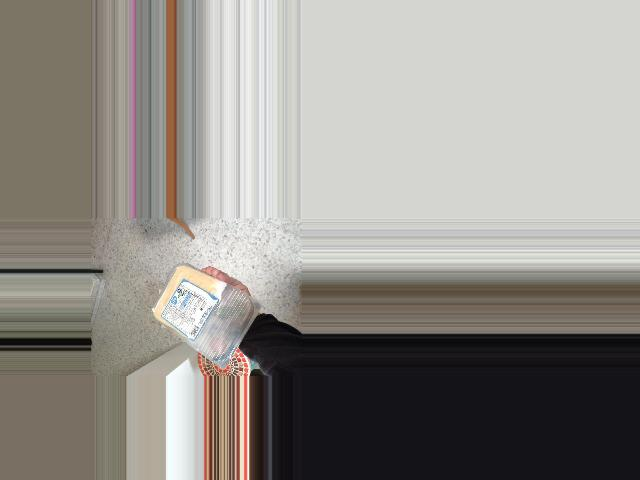cheese: (148, 270, 250, 359)
